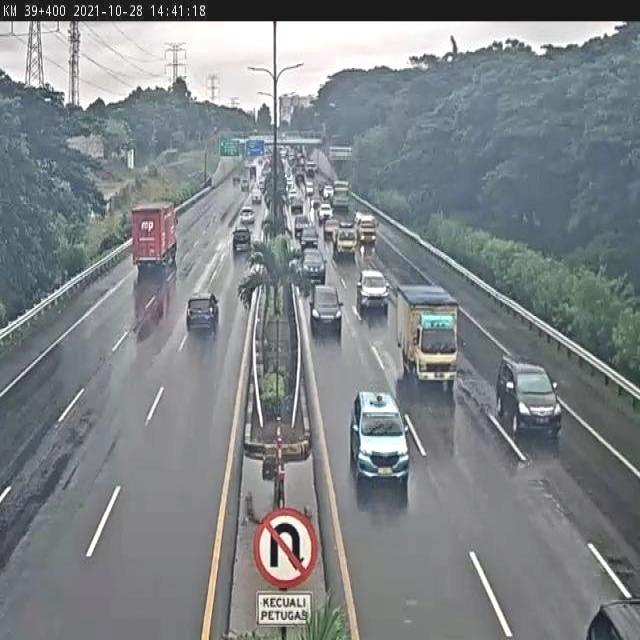Bus: (332, 180, 350, 210), (639, 0, 640, 12)
Car: (350, 387, 410, 490), (496, 357, 561, 438), (310, 283, 344, 338), (356, 269, 389, 314), (186, 293, 220, 335), (301, 248, 326, 284), (232, 226, 251, 253), (300, 225, 319, 250), (322, 218, 340, 240), (293, 215, 307, 238), (240, 207, 255, 226), (318, 202, 332, 222), (323, 184, 333, 200), (310, 195, 321, 209), (305, 179, 314, 196), (288, 190, 296, 198)
Truck: (394, 285, 459, 391), (130, 201, 178, 279), (355, 212, 377, 245), (335, 224, 357, 257), (306, 161, 316, 178)
